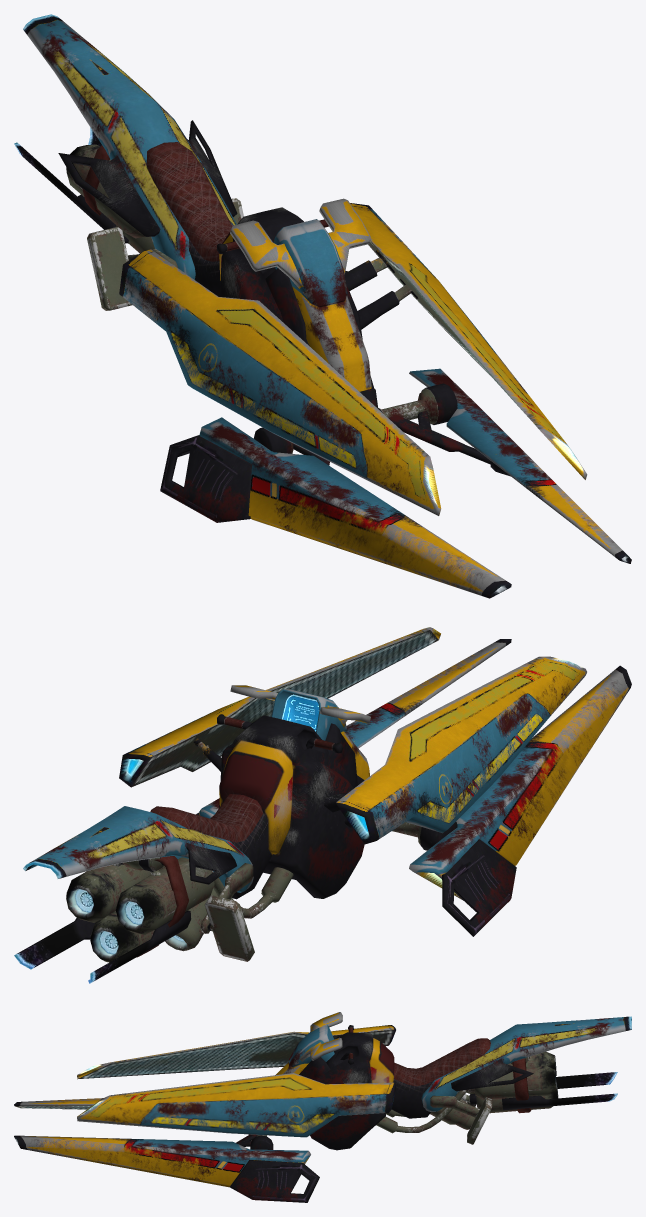
Rendered from hoverbike.glb.
3 renders of one model, top to bottom at view 1: azimuth 30°, elevation 25°; view 2: azimuth 150°, elevation 25°; view 3: azimuth 270°, elevation 25°, orthographic. The views are drawn at different scales.
Visible parts, largest first — view 1: Hovercraft_spider:low_poly; view 2: Hovercraft_spider:low_poly; view 3: Hovercraft_spider:low_poly.
Part boxes in pixels (left/top/right/bottom): Hovercraft_spider:low_poly: left=14, top=14, right=631, bottom=598; Hovercraft_spider:low_poly: left=14, top=627, right=631, bottom=983; Hovercraft_spider:low_poly: left=14, top=1012, right=631, bottom=1202.
Size of the model in its own units: 1.71 by 1.22 by 4.92.
1 material, 1 textured.
